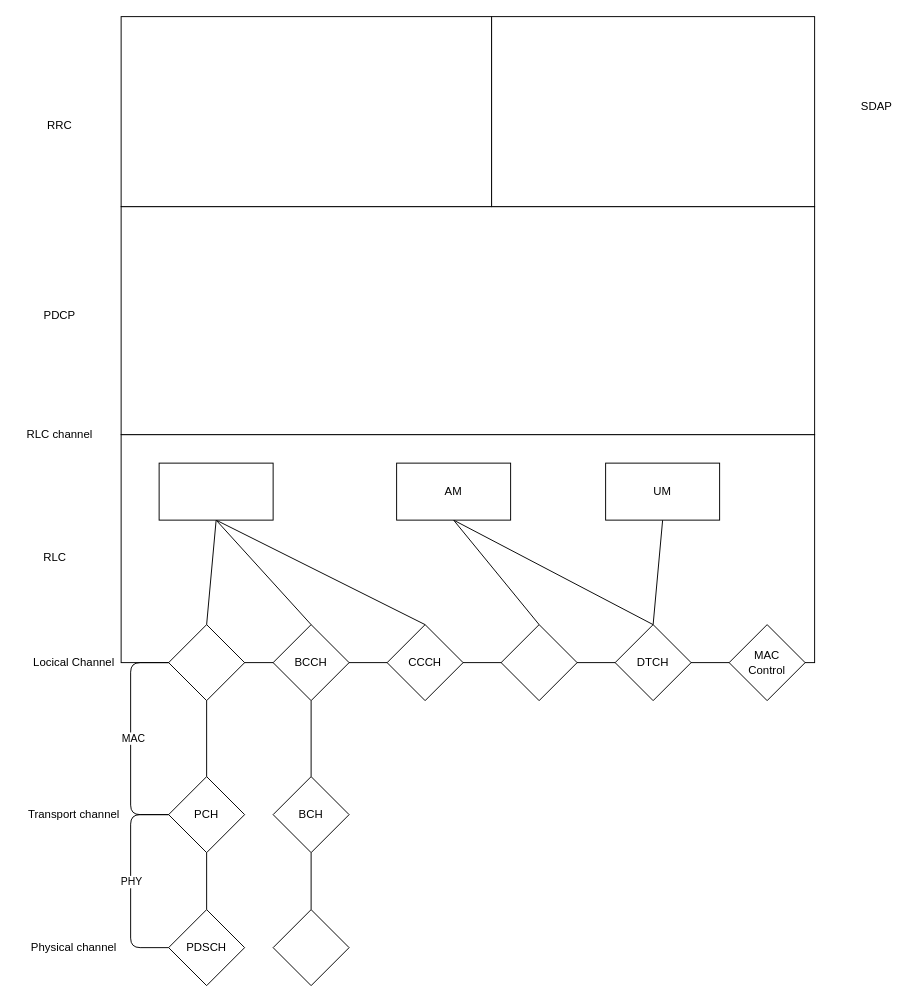
The diagram is 921 pixels wide and 1002 high, and some of its shapes have lost their labels. The centre of each missing label's shape, as x and y in pixels:
DCCH: the point at 538,662
PBCH: the point at 310,947
PCCH: the point at 206,662
TM: the point at 215,491
